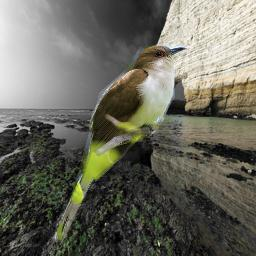Cuckoo: (53, 43, 188, 243)
